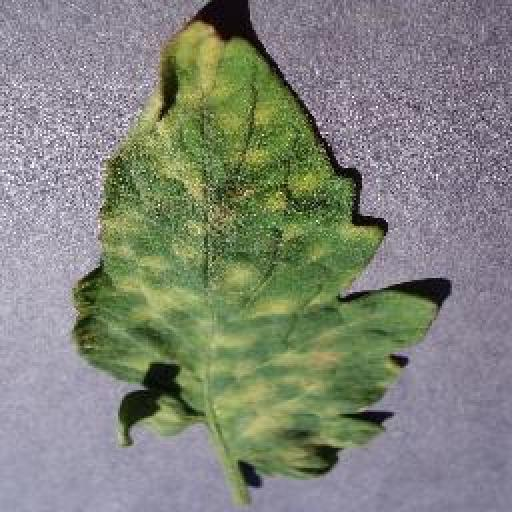disease_tomato: (71, 14, 439, 482)
